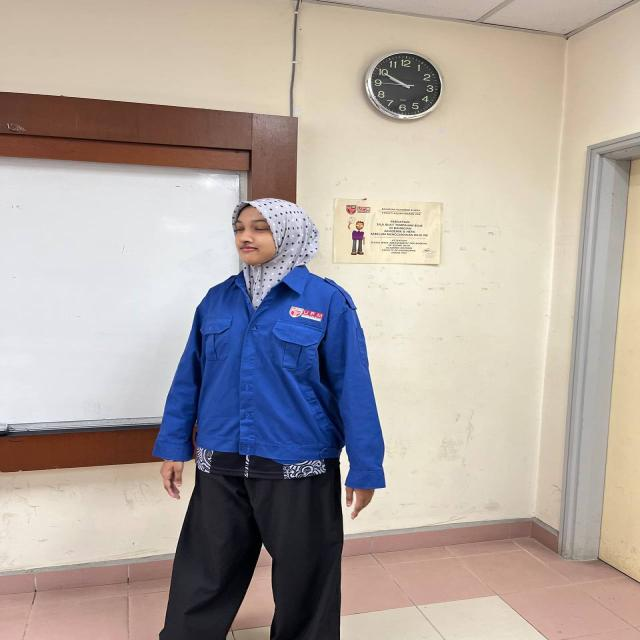person_with_labcoat: (153, 198, 385, 640)
